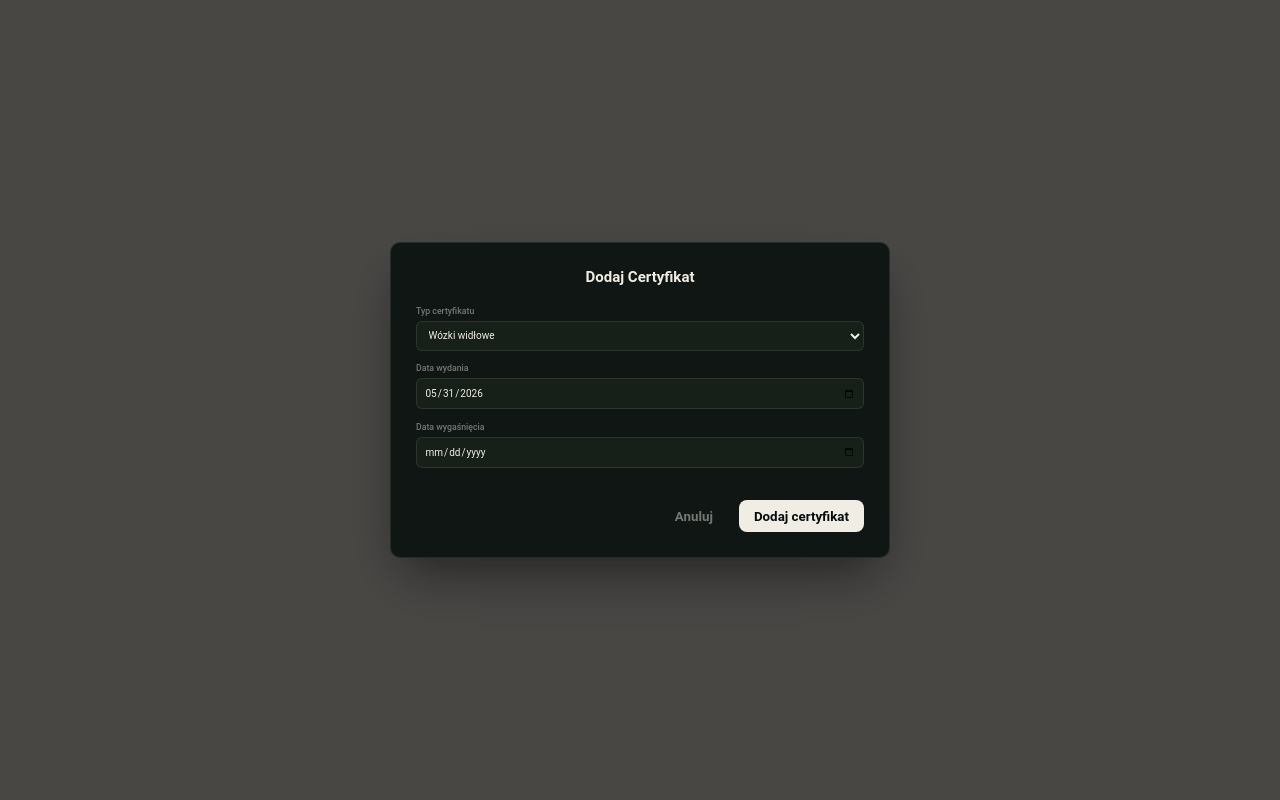
Scenario: AddCertificationModal › wyświetla błąd gdy data wygaśnięcia nie jest po dacie wydania
This screenshot has width=1280, height=800.
Type "2024-06-01" into the date field labelled "Data wydania".
click(640, 394); type("2024-06-01")  # box [416,378,864,409]
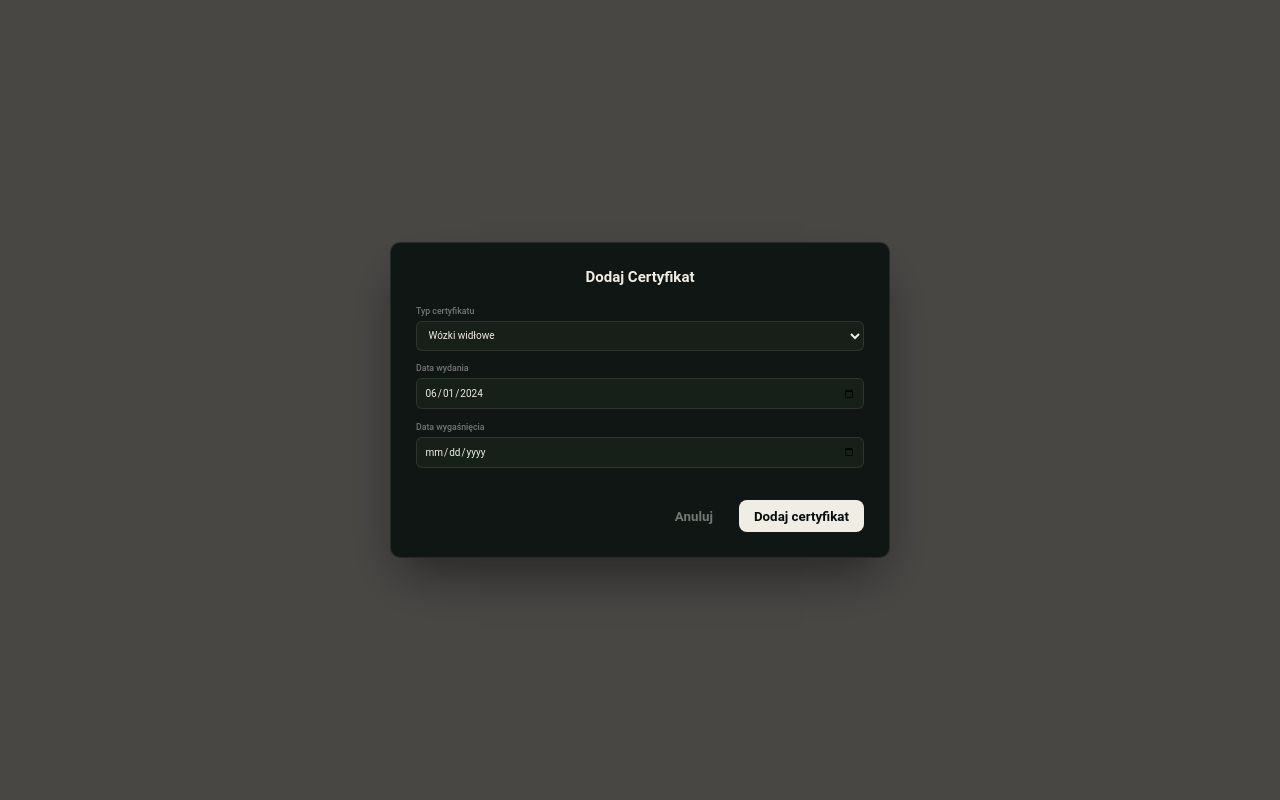
Type "2024-06-01" into the date field labelled "Data wygaśnięcia".
click(640, 452); type("2024-06-01")  # box [416,437,864,468]
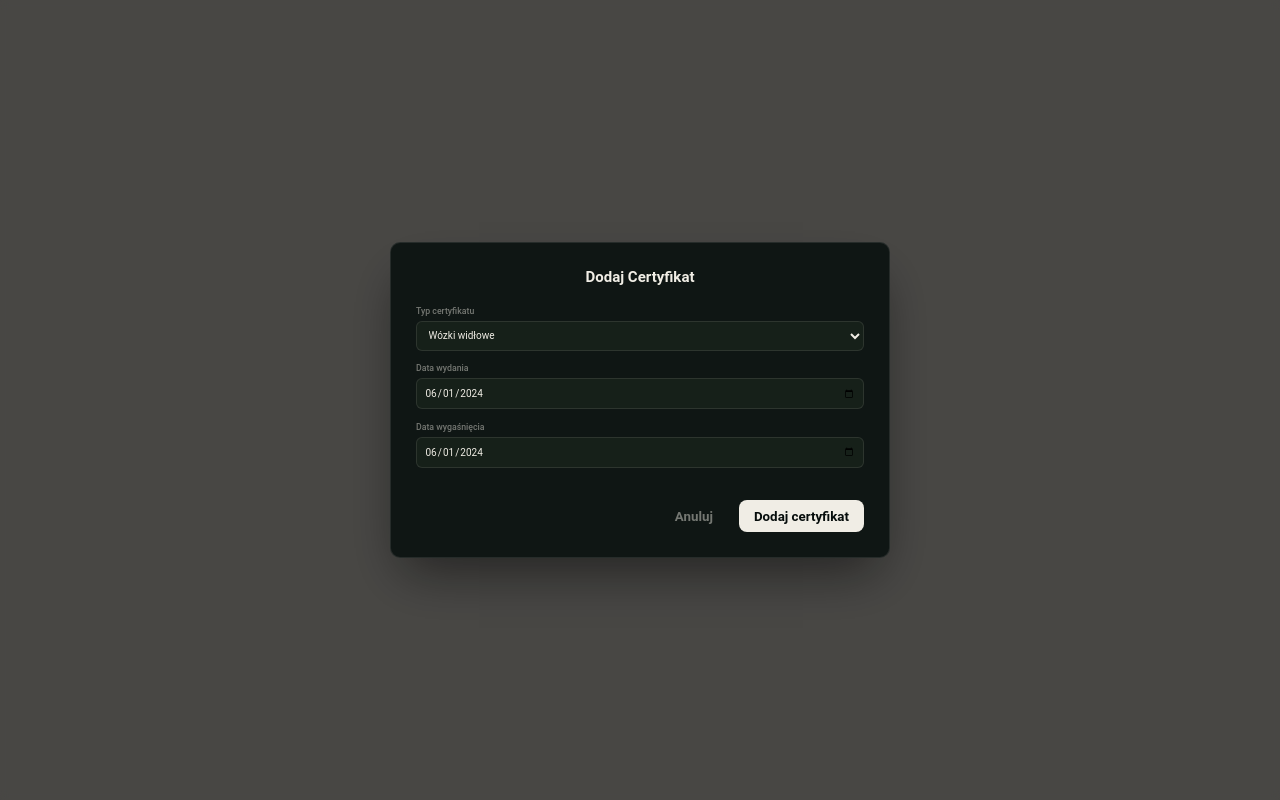
Click the button "Dodaj certyfikat".
click(801, 516)  # box [739,500,864,532]
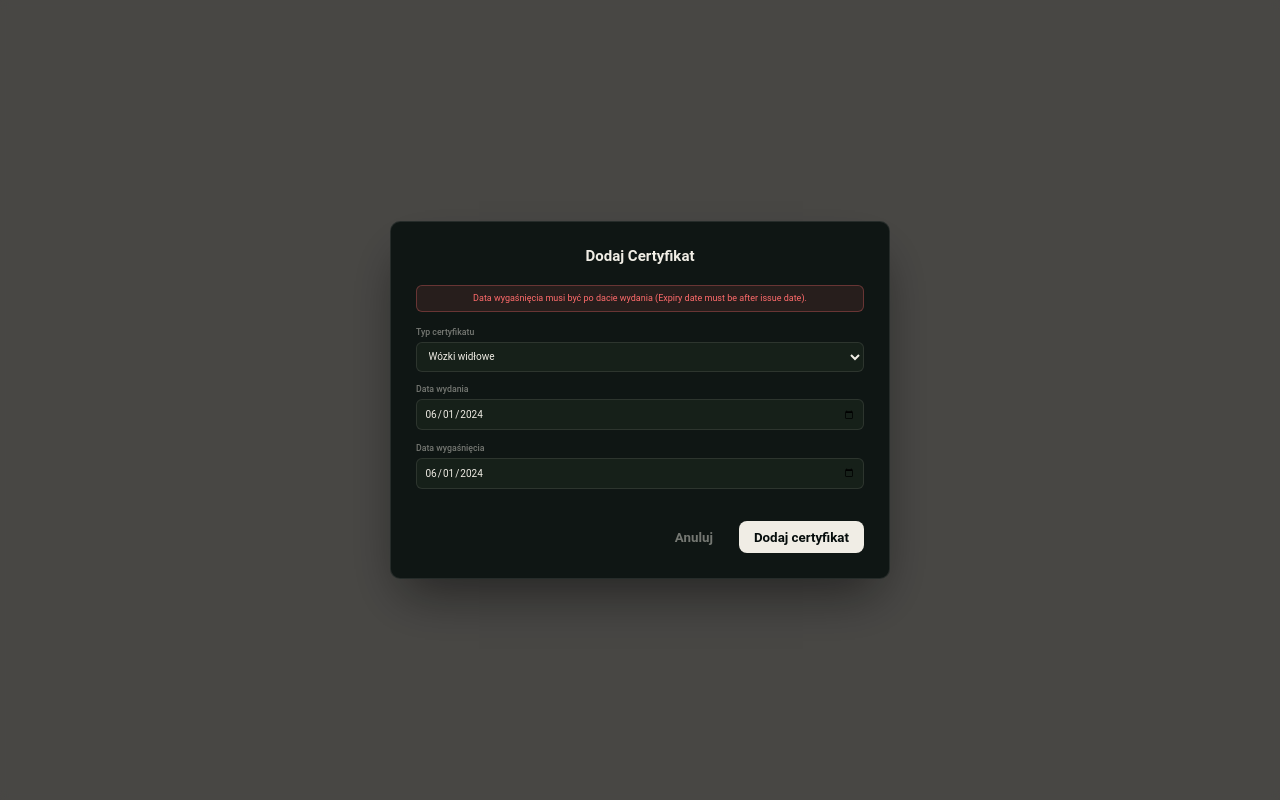
Result: the text "Data wygaśnięcia musi być po dacie wydania (Expiry date must be after issue date)." is shown at [473,293,807,303]
